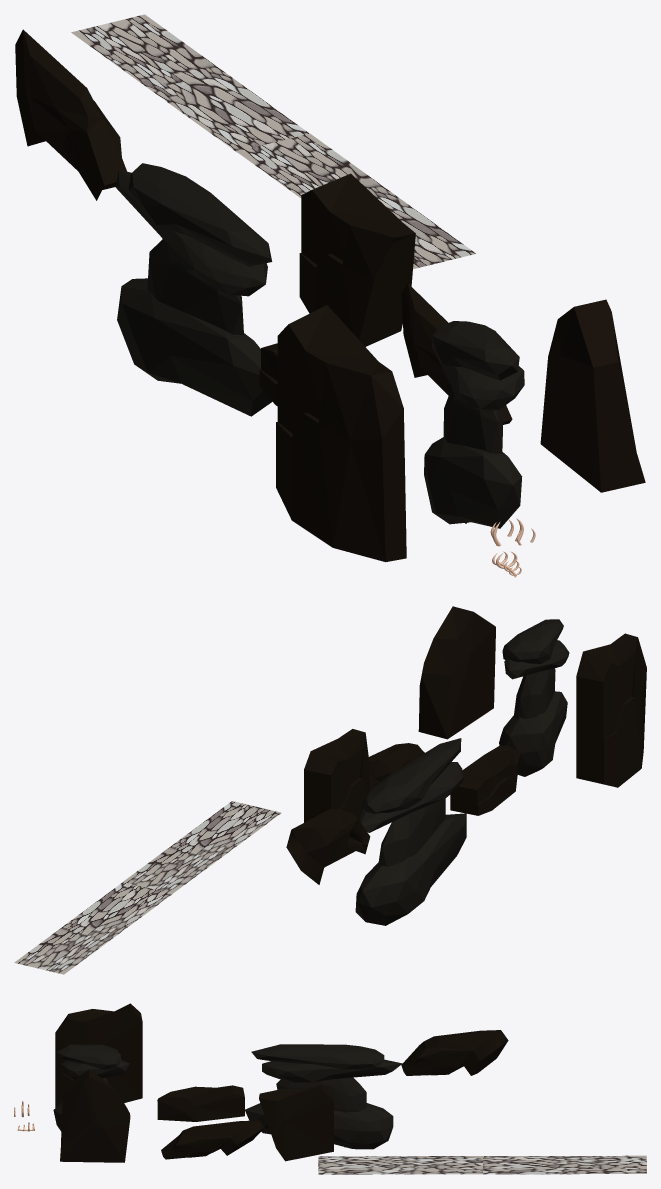
Rendered from muros y paredes roca y camino piedra .fbx.
3 renders of one model, top to bottom at view 1: azimuth 30°, elevation 25°; view 2: azimuth 150°, elevation 25°; view 3: azimuth 270°, elevation 25°, orthographic. The views are drawn at different scales.
Parts seen in each view (by area): view 1: Rocas.002, piedra grande.001, Plane.001, piedra grande, Rocas.005, Rocas.003, Rocas.006, Rocas.008, Rocas.001; view 2: piedra grande.001, Plane.001, Rocas.002, Rocas.003, piedra grande, Rocas.005, Rocas.006, Rocas.001, Rocas.008; view 3: piedra grande.001, Plane.001, Rocas.003, Rocas.002, Rocas.005, Rocas.006, Rocas.001, Rocas.008, piedra grande.
Boxes of the visible parts, bbox=[...] form: Rocas.002: bbox=[276, 305, 406, 562]; piedra grande.001: bbox=[115, 163, 272, 416]; Plane.001: bbox=[71, 14, 475, 268]; piedra grande: bbox=[424, 321, 524, 528]; Rocas.005: bbox=[299, 173, 415, 346]; Rocas.003: bbox=[540, 299, 645, 492]; Rocas.006: bbox=[15, 29, 126, 200]; Rocas.008: bbox=[401, 283, 512, 424]; Rocas.001: bbox=[259, 343, 277, 406]; piedra grande.001: bbox=[355, 738, 466, 925]; Plane.001: bbox=[14, 801, 281, 974]; Rocas.002: bbox=[576, 633, 646, 787]; Rocas.003: bbox=[418, 606, 495, 739]; piedra grande: bbox=[499, 619, 569, 776]; Rocas.005: bbox=[304, 729, 369, 822]; Rocas.006: bbox=[286, 809, 370, 884]; Rocas.001: bbox=[450, 745, 520, 815]; Rocas.008: bbox=[368, 743, 424, 790]; piedra grande.001: bbox=[245, 1044, 402, 1149]; Plane.001: bbox=[318, 1155, 646, 1174]; Rocas.003: bbox=[60, 1069, 130, 1162]; Rocas.002: bbox=[55, 1003, 142, 1107]; Rocas.005: bbox=[259, 1085, 333, 1161]; Rocas.006: bbox=[401, 1030, 508, 1075]; Rocas.001: bbox=[157, 1085, 244, 1121]; Rocas.008: bbox=[161, 1120, 264, 1159]; piedra grande: bbox=[53, 1044, 129, 1131].
Size of the model in its own units: 3349 by 2114 by 9656.
5 materials, 1 textured.
